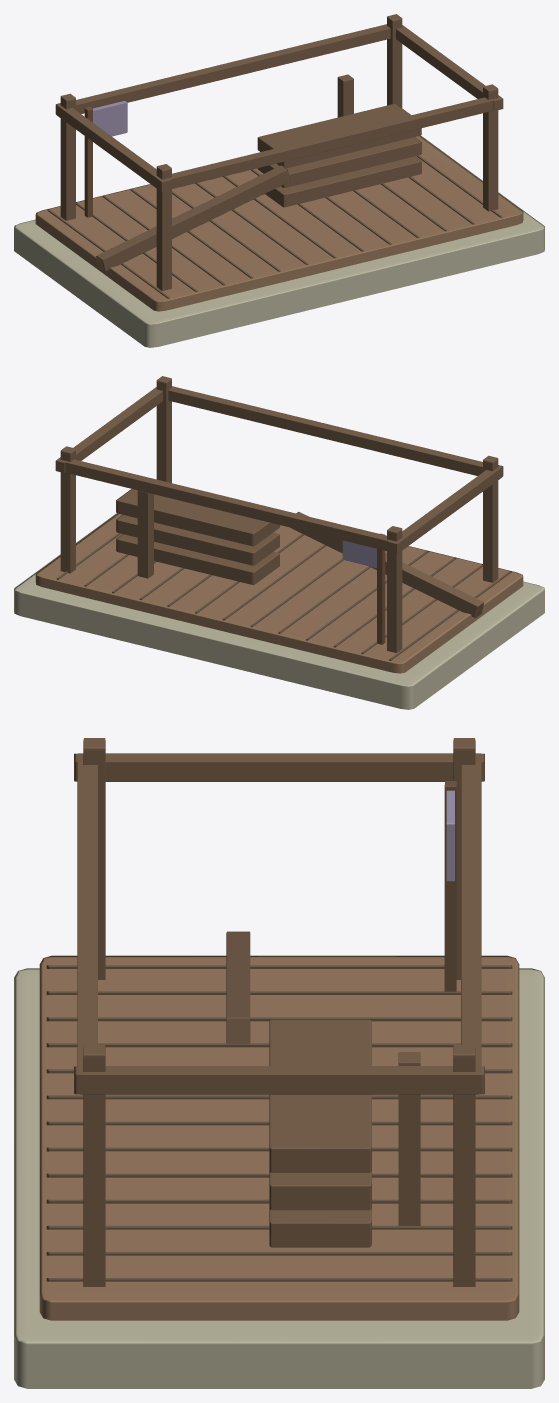
Rendered from woodlookout-2.glb.
3 renders of one model, top to bottom at view 1: azimuth 30°, elevation 25°; view 2: azimuth 150°, elevation 25°; view 3: azimuth 270°, elevation 25°, orthographic. The views are drawn at different scales.
Parts seen in each view (by area): view 1: woodlookout-2-0, landmark-restored, landmark-ruin; view 2: woodlookout-2-0, landmark-restored, landmark-ruin; view 3: woodlookout-2-0, landmark-restored, landmark-ruin.
Part boxes in pixels (<box>): woodlookout-2-0: <box>14,135,544,347</box>; landmark-restored: <box>55,14,503,290</box>; landmark-ruin: <box>96,74,353,271</box>; woodlookout-2-0: <box>14,513,544,709</box>; landmark-restored: <box>55,376,503,652</box>; landmark-ruin: <box>137,490,483,618</box>; woodlookout-2-0: <box>14,955,544,1388</box>; landmark-restored: <box>74,738,484,1286</box>; landmark-ruin: <box>226,931,420,1225</box>.
Size of the model in its own units: 2.6 by 0.985 by 1.55.
